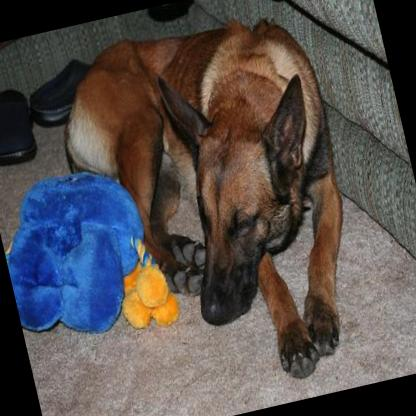malinois: (38, 0, 381, 416)
